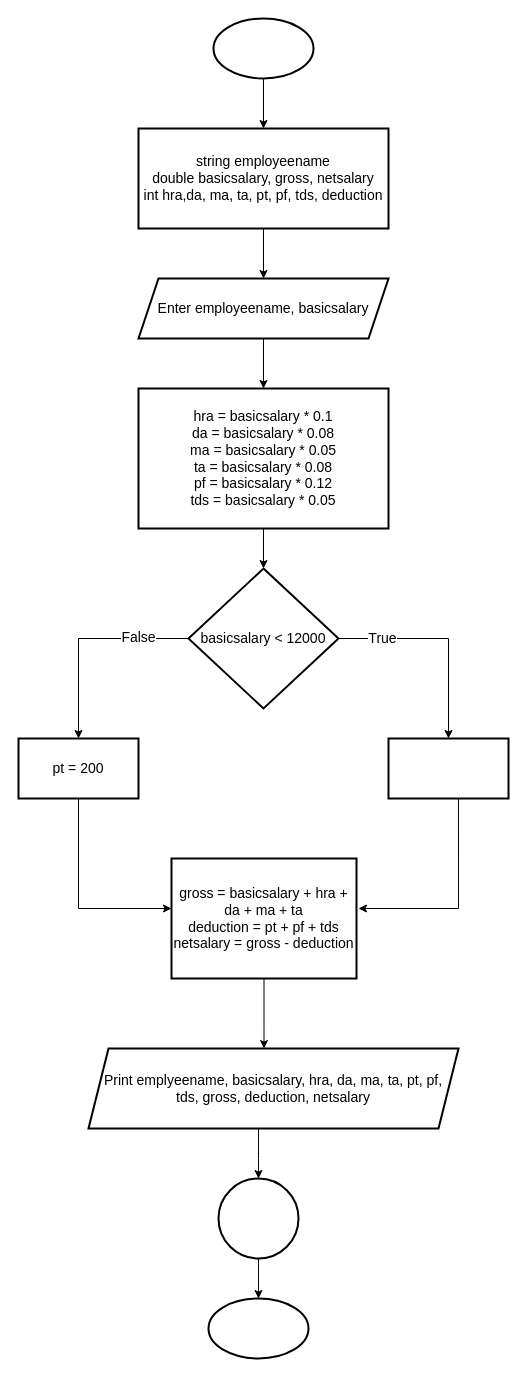
Image size: 526x1376. Some labels were removed from this diagram. The shapes that lost their labels are listed below. From the top down, each one's centre as x and y in pixels, then its label:
(263,48): Start
(448,768): pt = 0
(258,1328): End
